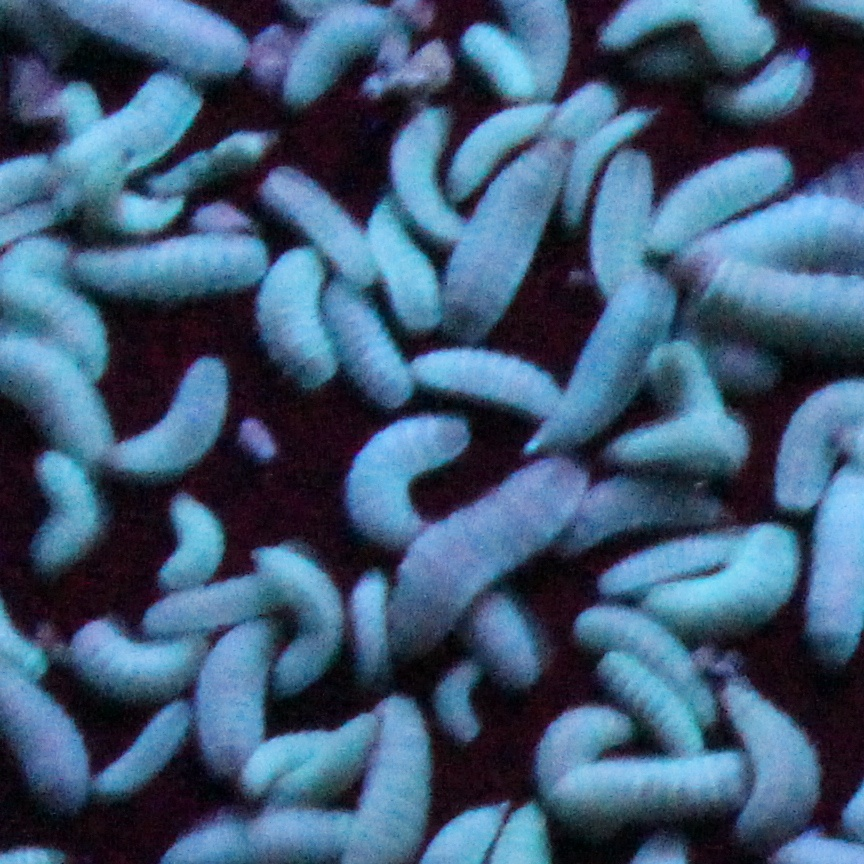larve: (393, 467, 578, 657), (445, 145, 572, 333), (548, 284, 678, 446), (664, 527, 808, 640), (576, 609, 716, 720), (565, 753, 752, 833), (722, 688, 820, 831), (593, 655, 714, 761), (56, 79, 194, 171), (561, 481, 732, 555), (651, 141, 792, 228), (116, 368, 230, 475), (355, 419, 455, 538), (416, 347, 559, 419), (200, 621, 269, 770), (262, 549, 335, 689), (267, 171, 367, 270), (284, 13, 398, 98), (77, 622, 194, 703), (89, 237, 255, 294), (280, 714, 380, 806), (563, 106, 643, 220), (327, 288, 398, 403), (102, 710, 188, 797), (537, 709, 623, 796), (376, 212, 439, 324), (607, 423, 747, 467), (36, 464, 93, 569), (278, 258, 324, 384), (343, 574, 390, 687), (388, 123, 443, 208), (710, 65, 806, 113), (606, 158, 644, 279), (242, 732, 314, 794), (433, 663, 485, 748), (169, 500, 220, 583), (139, 592, 264, 624), (468, 37, 525, 98)
